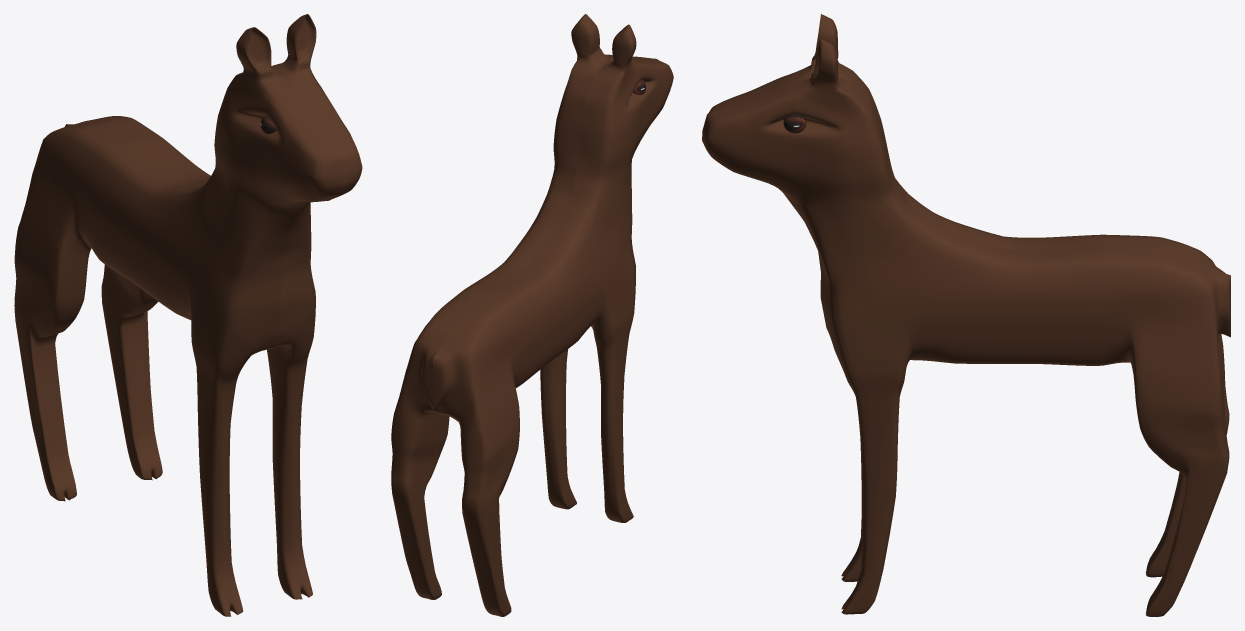
File: aReindeer.fbx
The picture shows the model from 3 angles, left to right: view 1: azimuth 30°, elevation 25°; view 2: azimuth 150°, elevation 25°; view 3: azimuth 270°, elevation 25°; orthographic projection. The views are drawn at different scales.
Visible parts, largest first — view 1: body1, body; view 2: body1, body; view 3: body, body1.
Part boxes in pixels (<box>): body1: <box>14,27,342,616</box>; body: <box>85,14,362,599</box>; body1: <box>433,24,673,616</box>; body: <box>391,14,652,599</box>; body: <box>702,39,1230,616</box>; body1: <box>707,14,1230,581</box>.
Bounding box in the file's own units: 23.81 × 111 × 93.71.
Materials: 3 (2 with a texture image).
